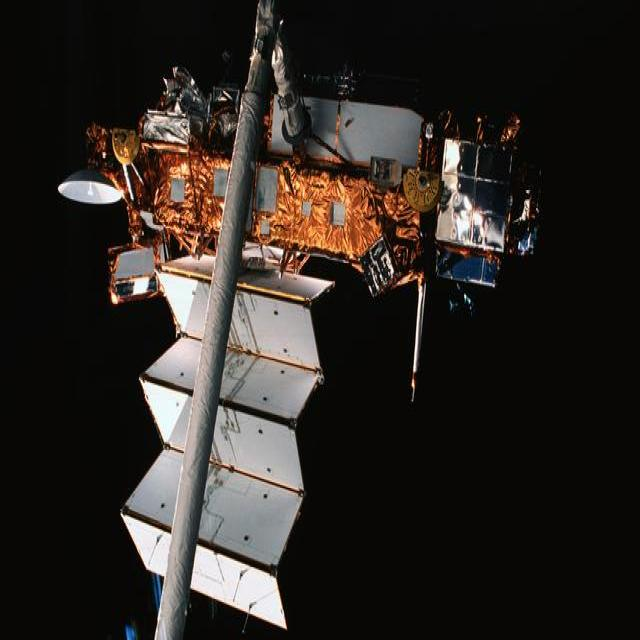medium_debris: (59, 0, 541, 636)
